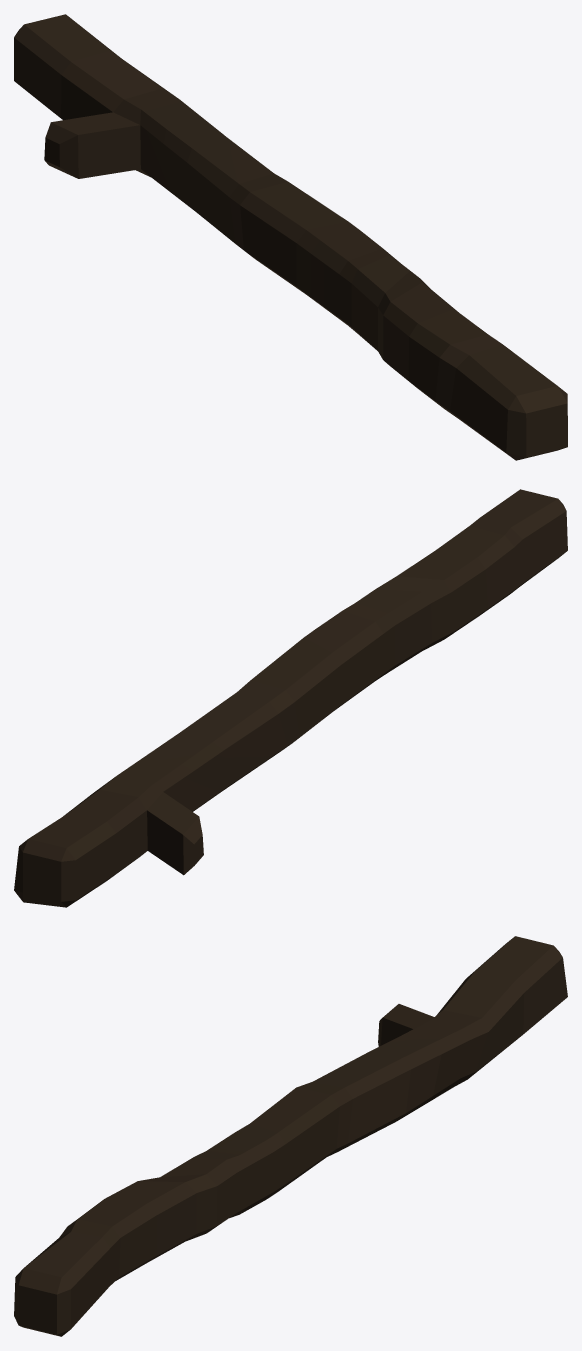
The model's file is SpruceTwig.fbx.
3 views of the same model, one above another, from view 1: azimuth 30°, elevation 25°; view 2: azimuth 150°, elevation 25°; view 3: azimuth 330°, elevation 25° (orthographic). The views are drawn at different scales.
Visible parts, largest first — view 1: Cube.001; view 2: Cube.001; view 3: Cube.001.
Part boxes in pixels (x1,y1,x2,y2): Cube.001: (14,14,567,460); Cube.001: (14,489,567,907); Cube.001: (14,936,567,1336).
Bounding box in the file's own units: 51.99 × 38.28 × 389.
